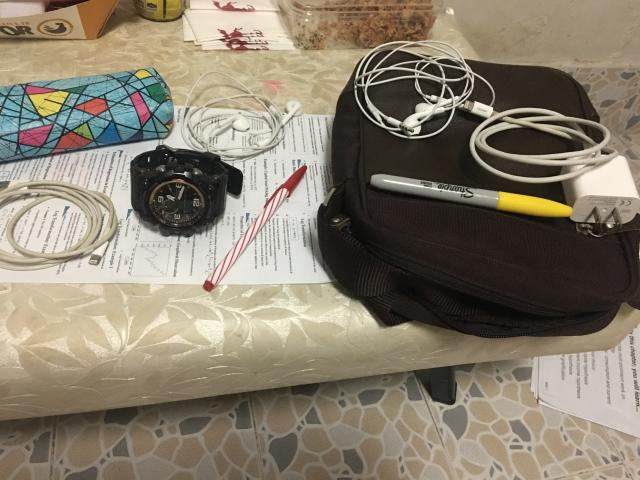Pen: (204, 165, 308, 291), (370, 174, 572, 218)
Watch: (130, 145, 242, 236)
paper: (0, 96, 382, 284), (531, 325, 640, 438)
wire: (461, 101, 640, 229), (351, 41, 495, 140), (181, 71, 302, 162), (0, 180, 118, 270)
